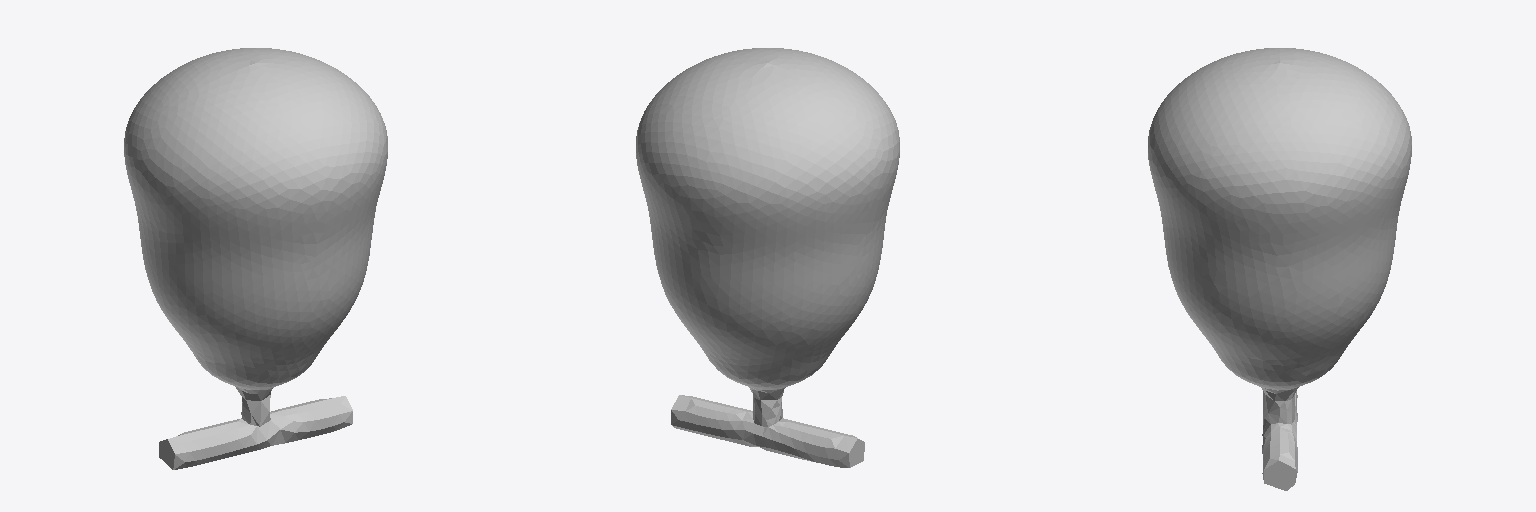
The model's file is dannang_befor.obj.
3 views of the same model, side by side, from view 1: azimuth 30°, elevation 25°; view 2: azimuth 150°, elevation 25°; view 3: azimuth 270°, elevation 25° (orthographic).
Size of the model in its own units: 17.95 by 28.87 by 17.94.